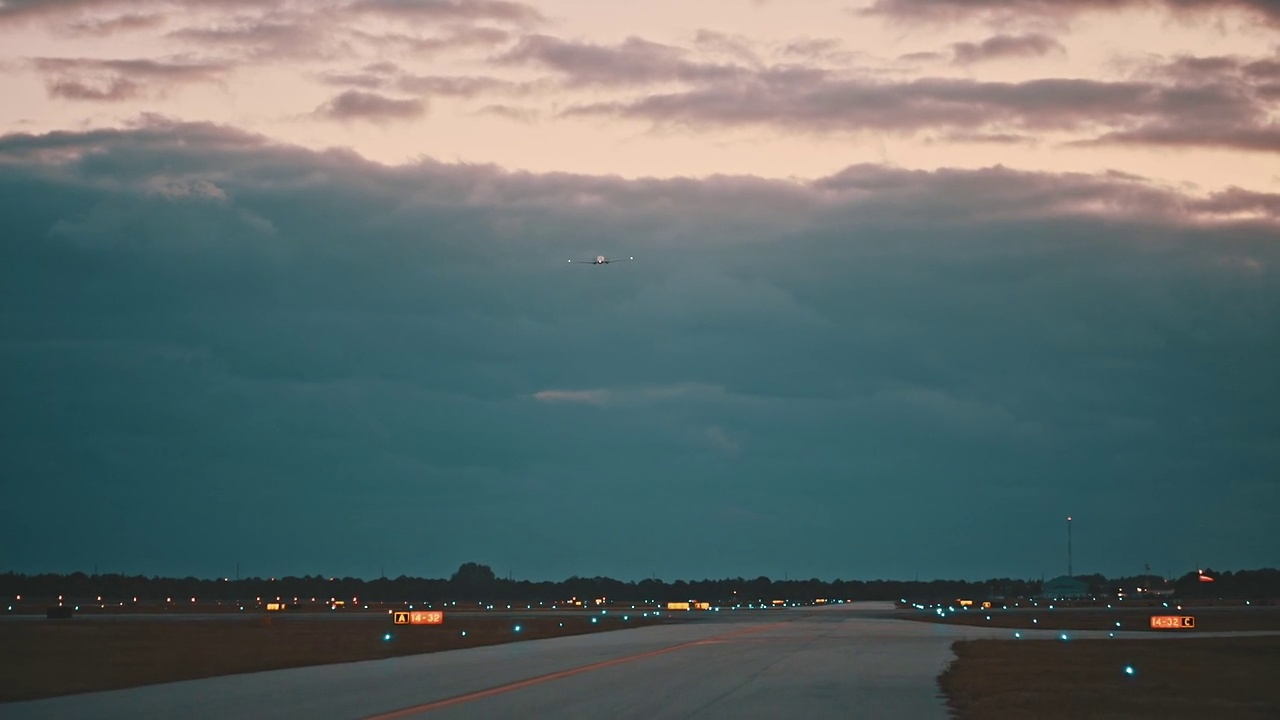plane: (565, 251, 632, 266)
